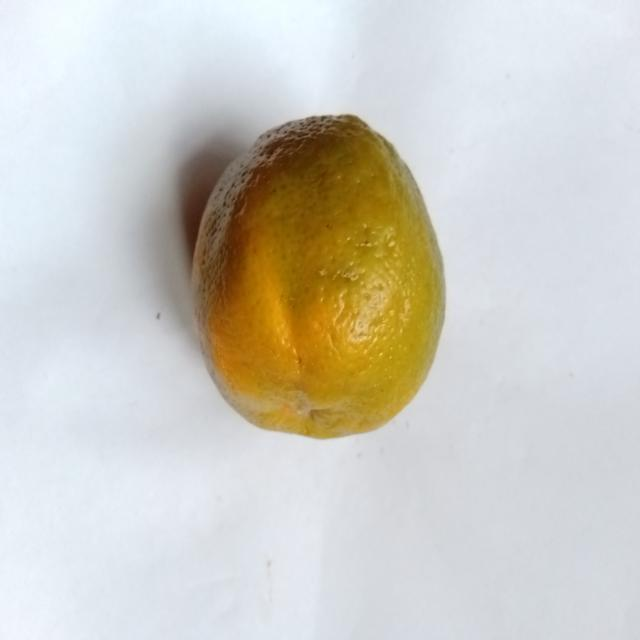orange: (193, 116, 444, 438)
